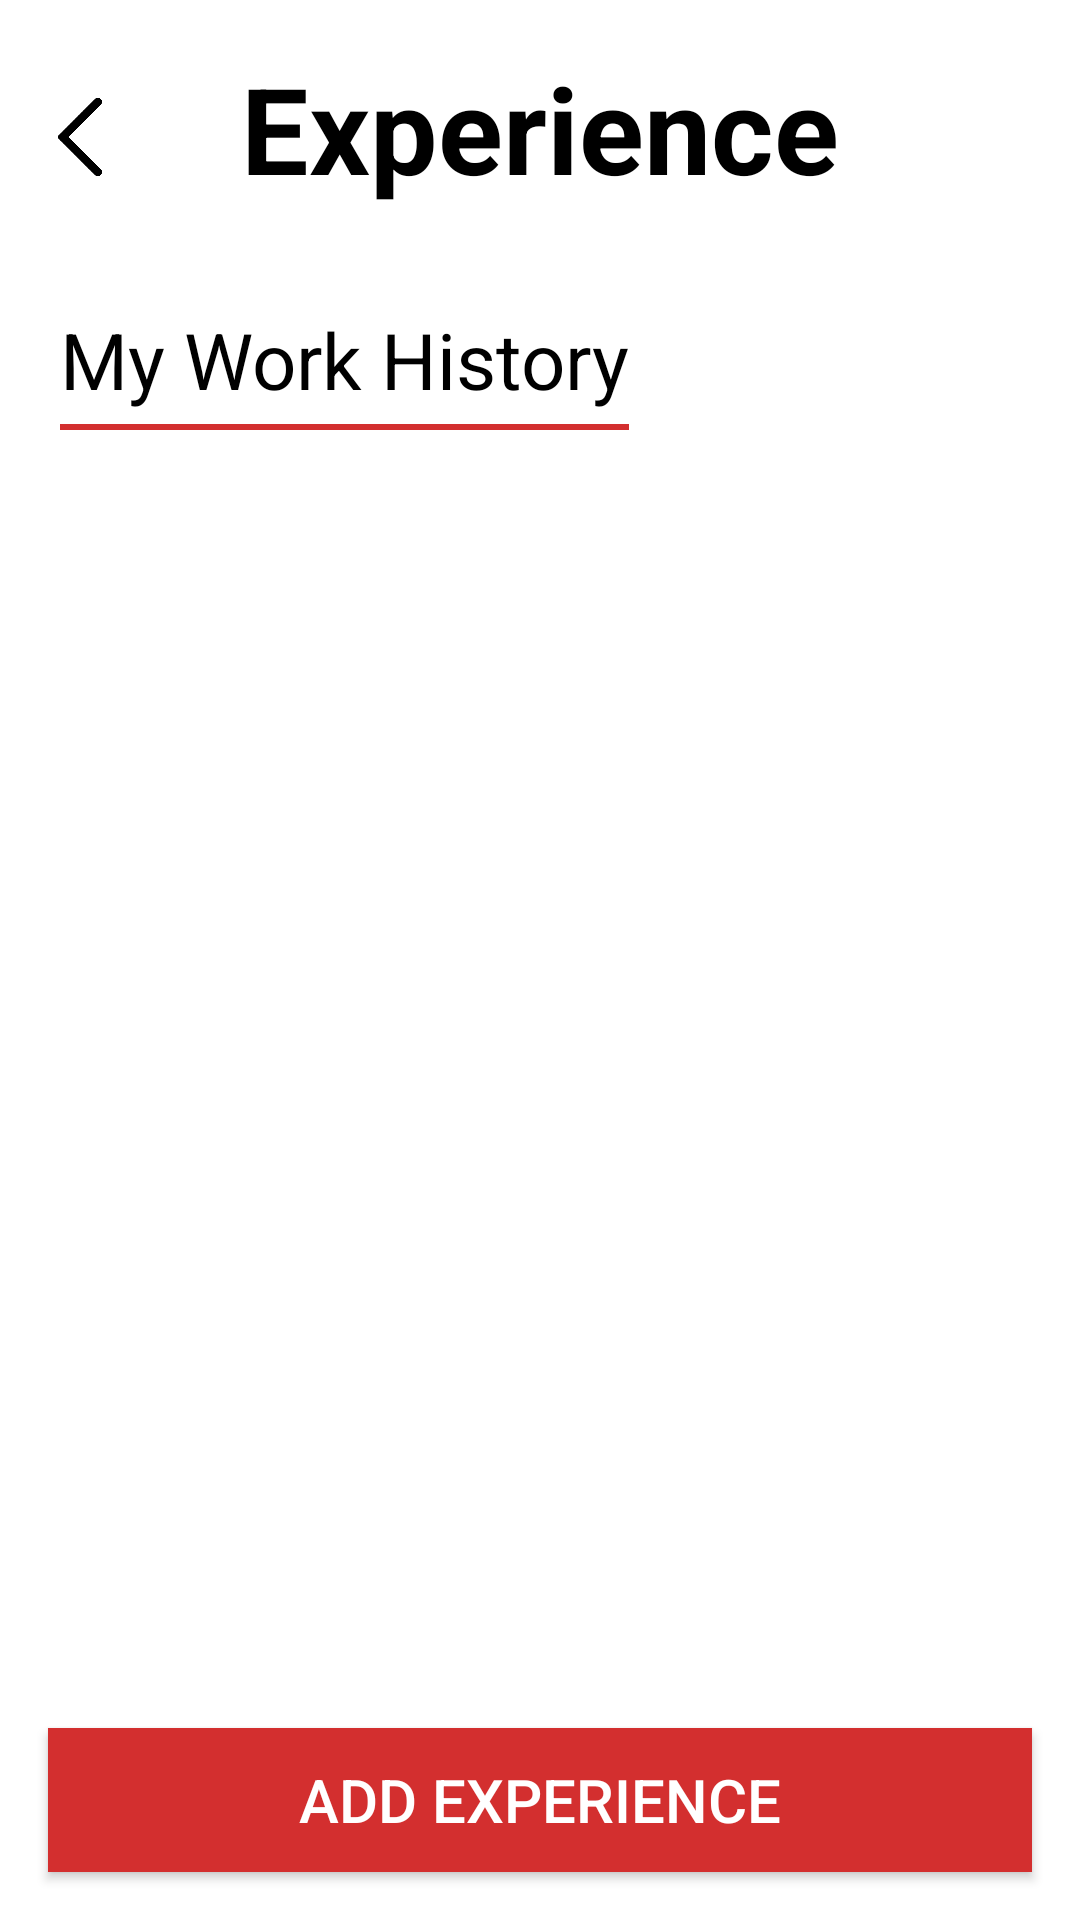

Screen size 1080*1920. Icon name, then its box in pixels as bbox(x1, y1, x2, y2):
backbutton: bbox(58, 98, 102, 176)
